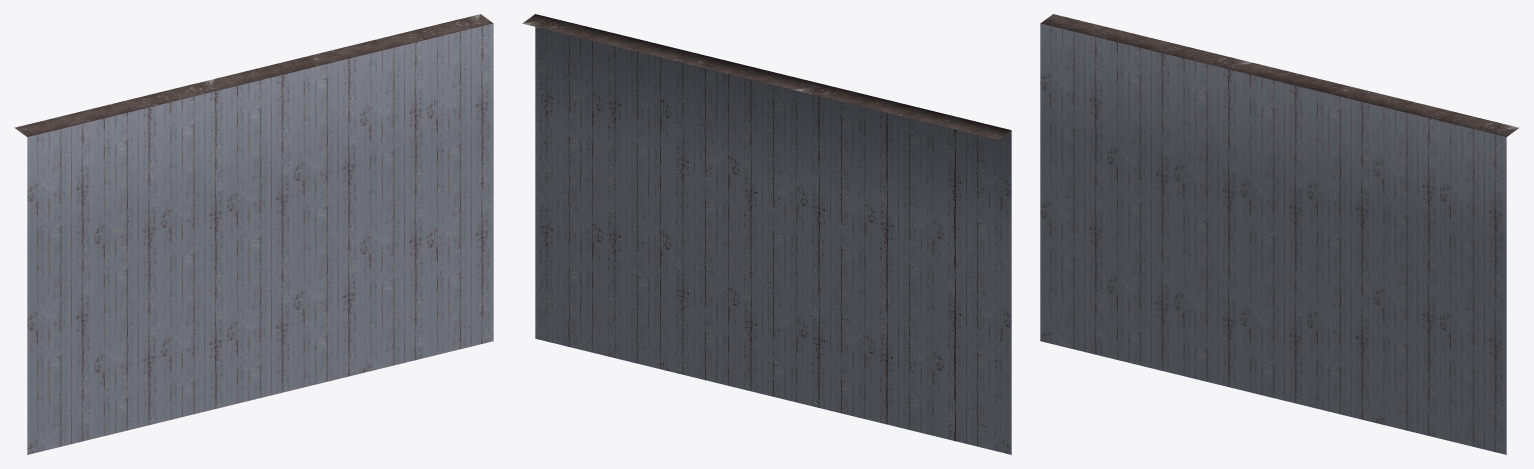
File: CorrugatedFenceMed.fbx
The picture shows the model from 3 angles, left to right: view 1: azimuth 30°, elevation 25°; view 2: azimuth 150°, elevation 25°; view 3: azimuth 330°, elevation 25°; orthographic projection. The views are drawn at different scales.
Parts seen in each view (by area): view 1: BigCorFence2; view 2: BigCorFence2; view 3: BigCorFence2.
Boxes of the visible parts, x1=… form: BigCorFence2: x1=14, y1=14, x2=493, y2=454; BigCorFence2: x1=522, y1=14, x2=1011, y2=454; BigCorFence2: x1=1040, y1=14, x2=1519, y2=454.
Bounding box in the file's own units: 660 × 430 × 31.5.
